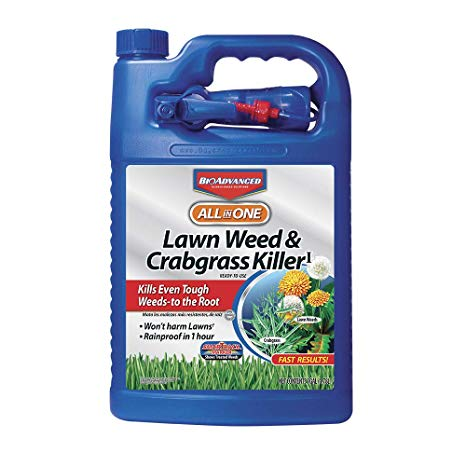crabgrass: (245, 307, 302, 356)
